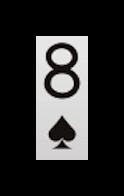8S: (41, 39, 83, 156)
